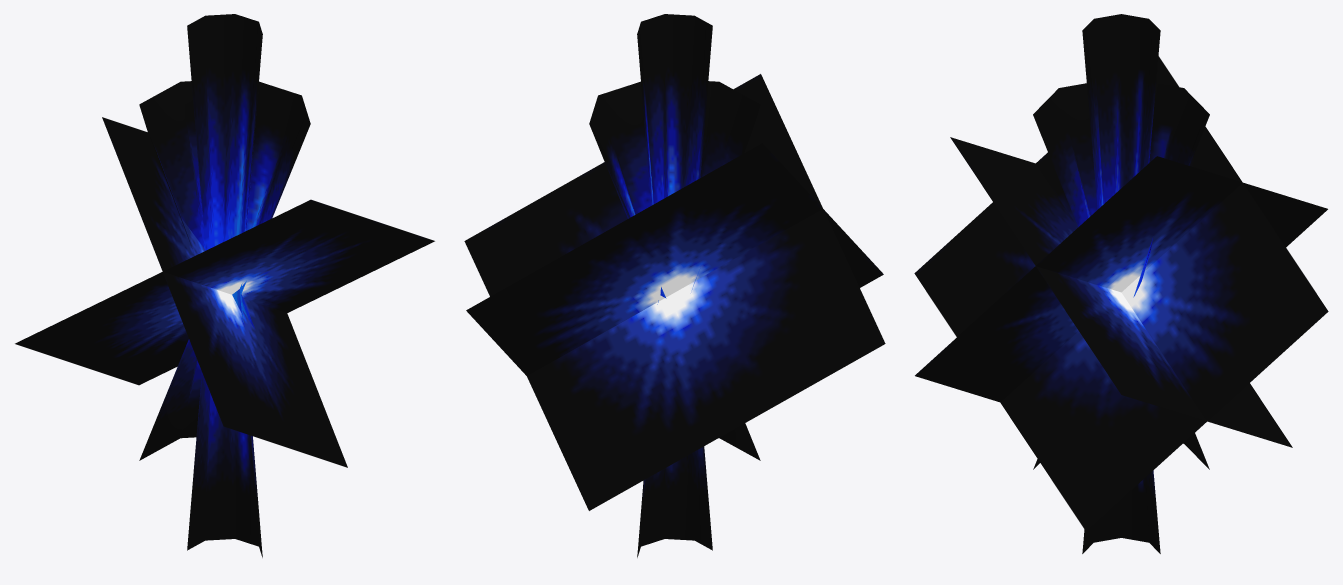
Rendered from si_eoso_5010.glb.
3 views of the same model, side by side, from view 1: azimuth 30°, elevation 25°; view 2: azimuth 150°, elevation 25°; view 3: azimuth 270°, elevation 25° (orthographic).
Visible parts, largest first — view 1: layer_01_si_eoso_5107, layer_00_si_eoso_5107; view 2: layer_01_si_eoso_5107, layer_00_si_eoso_5107; view 3: layer_01_si_eoso_5107, layer_00_si_eoso_5107.
Boxes of the visible parts, x1,y1,x2,y2 form: layer_01_si_eoso_5107: (15,117,434,467); layer_00_si_eoso_5107: (139,14,310,557); layer_01_si_eoso_5107: (464,74,885,510); layer_00_si_eoso_5107: (589,14,760,557); layer_01_si_eoso_5107: (914,56,1328,530); layer_00_si_eoso_5107: (1033,14,1209,553).
Size of the model in its own units: 30.41 by 36.22 by 25.95.
Materials: 1 (1 with a texture image).
